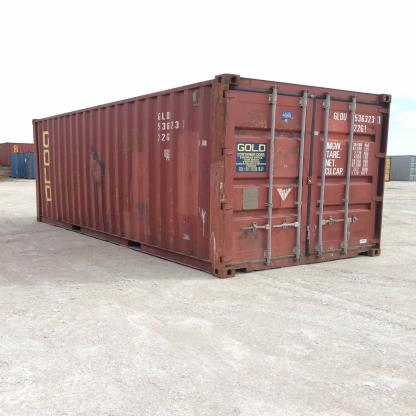Damage: (209, 84, 235, 276), (80, 196, 129, 232), (147, 231, 204, 255), (276, 124, 303, 166), (86, 144, 106, 188), (241, 109, 271, 133), (240, 226, 268, 247), (130, 201, 152, 219), (167, 216, 179, 224), (181, 217, 188, 227)
